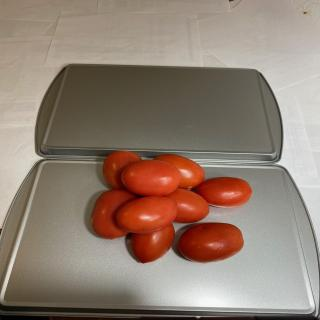Chilli: (90, 150, 252, 264)
Tomato: (178, 222, 244, 264), (90, 189, 137, 240), (116, 196, 178, 234), (121, 160, 182, 197), (153, 153, 205, 190), (131, 223, 175, 264), (196, 176, 252, 208), (163, 188, 210, 224), (102, 150, 142, 190)
